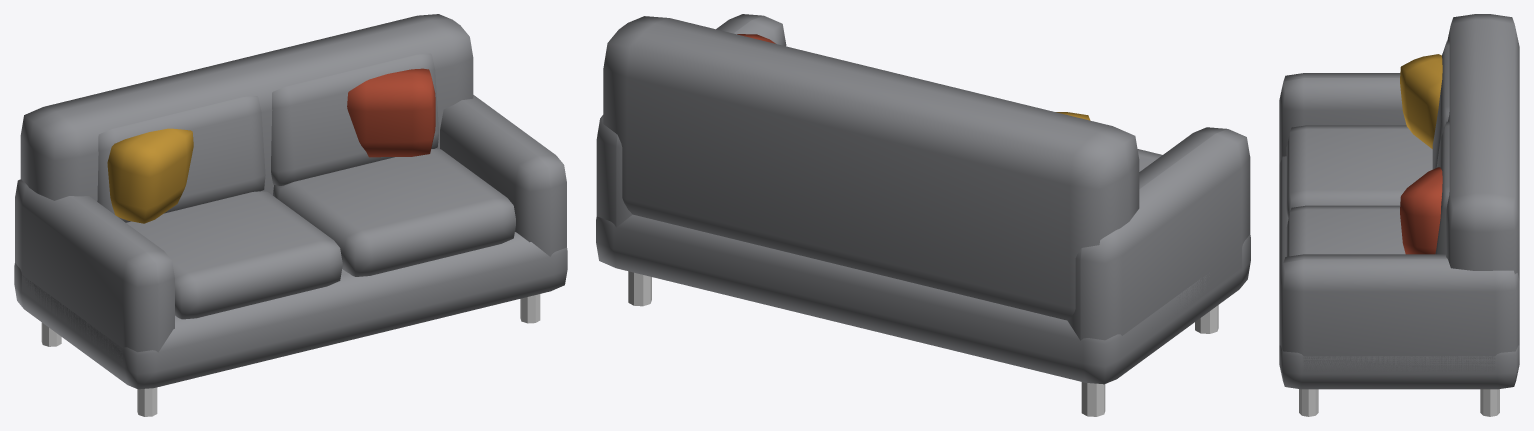
The model's file is sofa2-grey.glb.
The picture shows the model from 3 angles, left to right: view 1: azimuth 30°, elevation 25°; view 2: azimuth 150°, elevation 25°; view 3: azimuth 270°, elevation 25°; orthographic projection. The views are drawn at different scales.
Parts seen in each view (by area): view 1: sofa2-grey; view 2: sofa2-grey; view 3: sofa2-grey.
Boxes of the visible parts, bbox=[...] form: sofa2-grey: bbox=[14, 14, 567, 416]; sofa2-grey: bbox=[596, 14, 1250, 416]; sofa2-grey: bbox=[1279, 14, 1519, 416].
Size of the model in its own units: 2.24 by 1.13 by 1.13.
